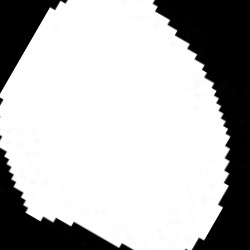spot: (0, 1, 230, 248)
